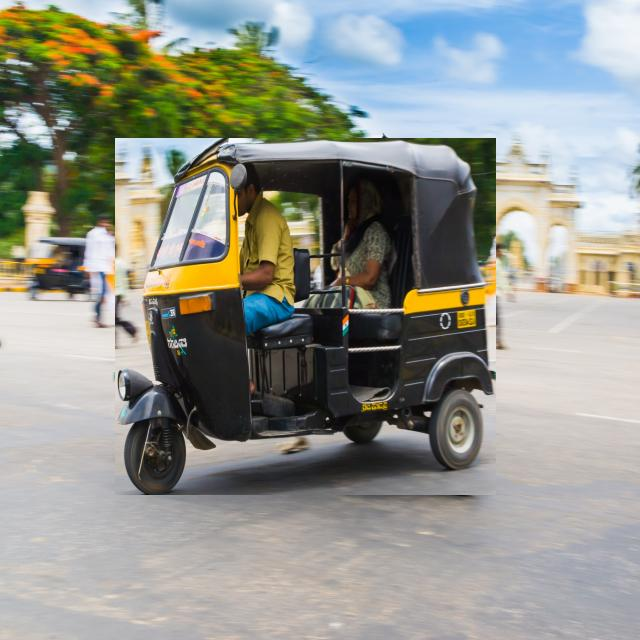autorickshaw: (115, 139, 496, 495)
